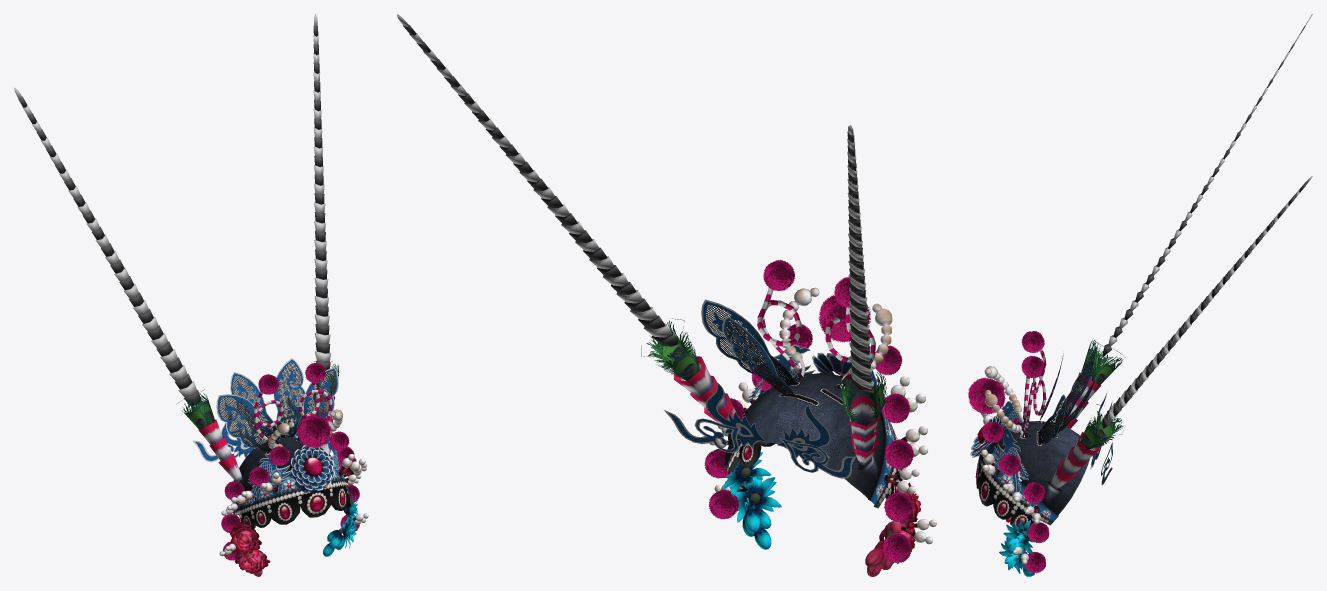
File: HuSanNiang_01.FBX
The picture shows the model from 3 angles, left to right: view 1: azimuth 30°, elevation 25°; view 2: azimuth 150°, elevation 25°; view 3: azimuth 270°, elevation 25°; orthographic projection. The views are drawn at different scales.
Parts seen in each view (by area): view 1: Object009; view 2: Object009; view 3: Object009.
Part boxes in pixels (left/top/right/bottom): Object009: left=14, top=14, right=368, bottom=576; Object009: left=397, top=14, right=936, bottom=576; Object009: left=968, top=14, right=1312, bottom=576.
Bounding box in the file's own units: 1098 × 1466 × 993.
1 material, 1 textured.
